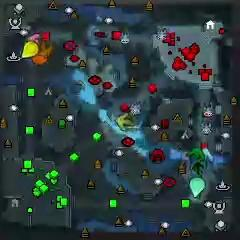p2: (190, 176, 205, 198)
p4: (21, 41, 38, 59)
p5: (32, 54, 48, 66)
x1: (27, 34, 41, 42)
x2: (116, 114, 134, 130)
x3: (203, 147, 213, 166)
x4: (187, 147, 204, 161)
x4Clone: (191, 160, 204, 176)
x5: (37, 41, 54, 59)
